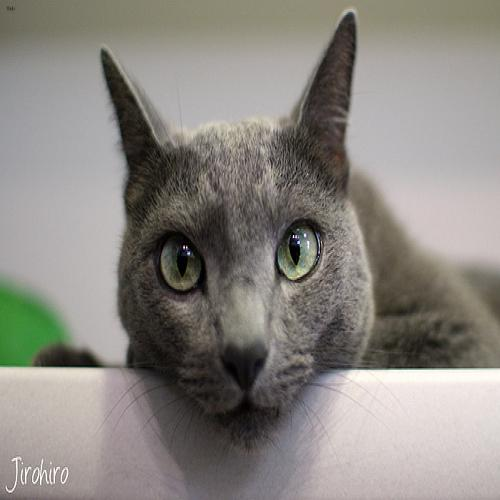rblue: (91, 3, 395, 459)
